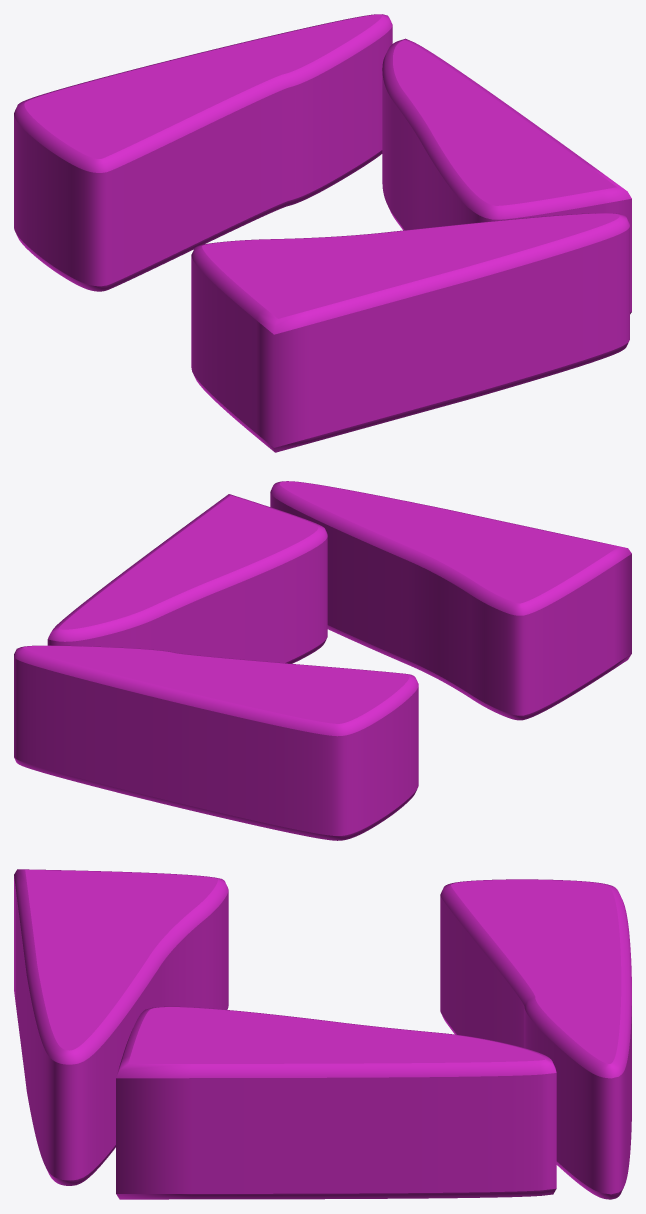
Rendered from Letter_C.fbx.
The picture shows the model from 3 angles, top to bottom: view 1: azimuth 30°, elevation 25°; view 2: azimuth 150°, elevation 25°; view 3: azimuth 270°, elevation 25°; orthographic projection. The views are drawn at different scales.
Visible parts, largest first — view 1: Letter_C; view 2: Letter_C; view 3: Letter_C.
Part boxes in pixels (x1,y1,x2,y2): Letter_C: (14,14,631,452); Letter_C: (14,481,631,840); Letter_C: (14,869,631,1199).
Bounding box in the file's own units: 0.4529 × 0.14 × 0.5803.
